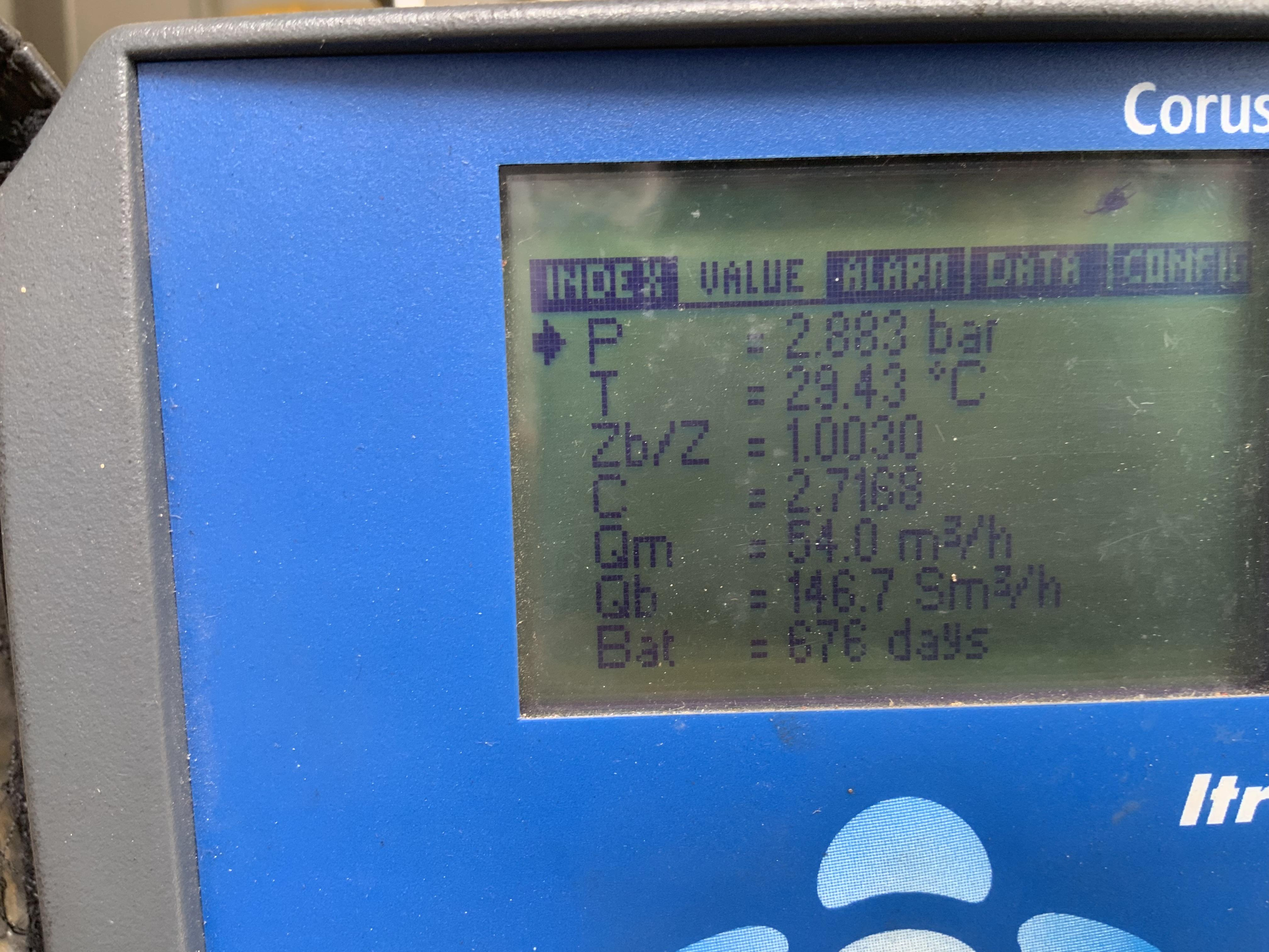digital_screen: (499, 149, 1269, 720)
